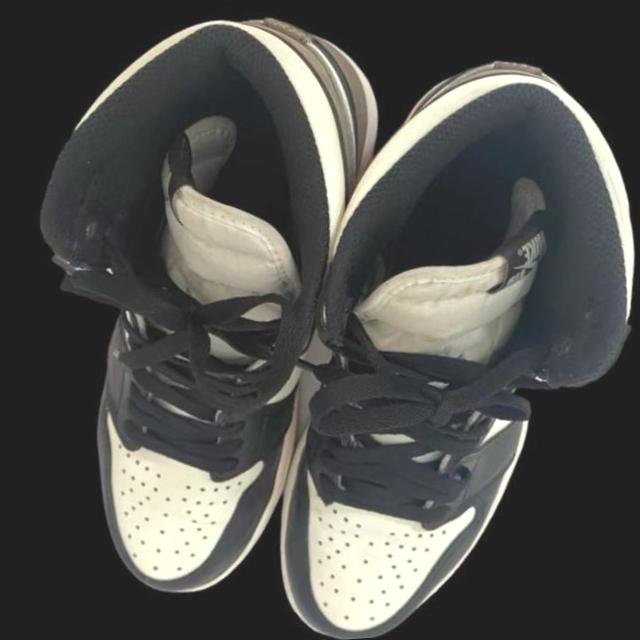nike_original_jordan: (181, 3, 640, 640), (0, 0, 449, 632)
